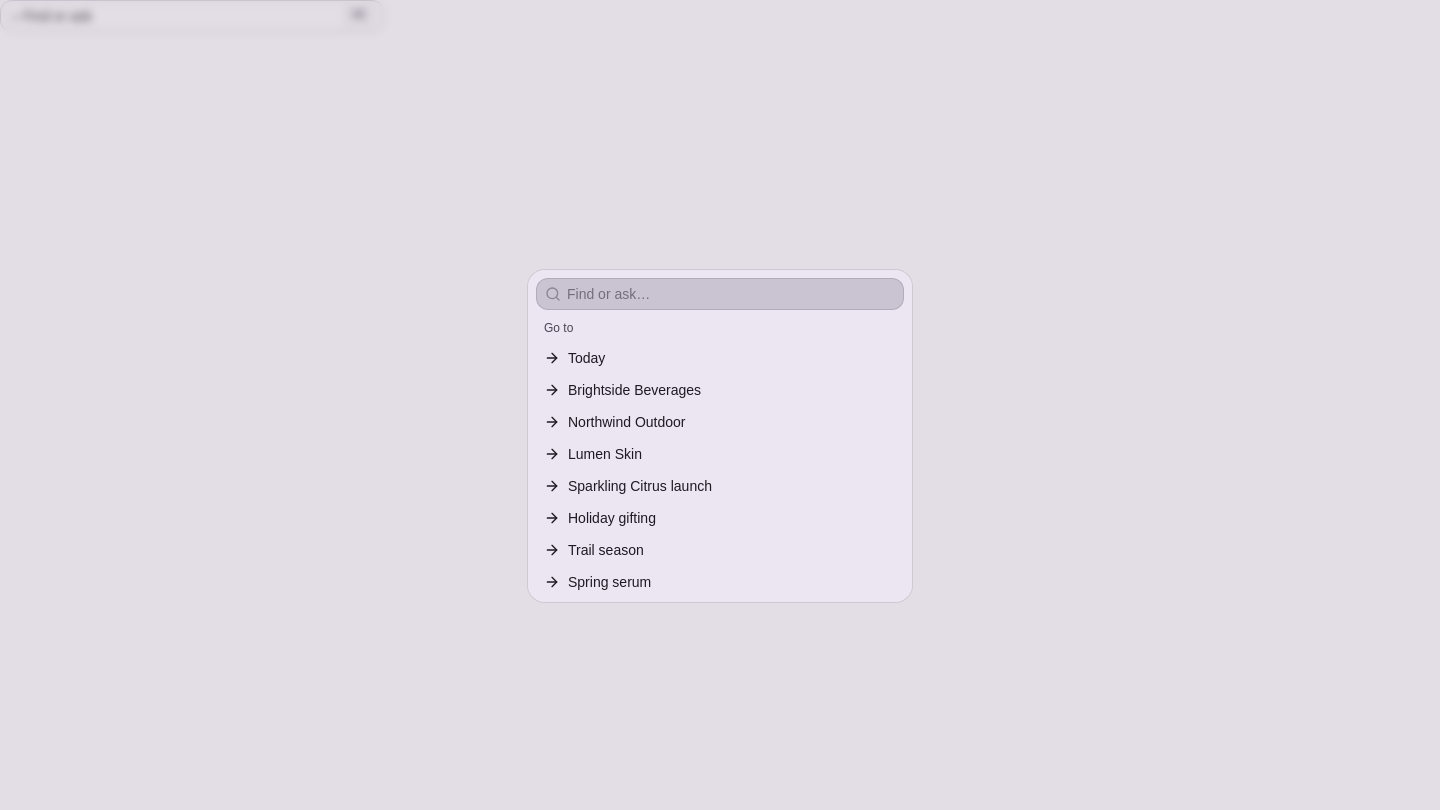
the conversation keeps the subject it started from when the route changes
Later steps or results of the test are not shown.
Type "How does this compare with her last three?" into the dropdown at (732, 294), box [561,284,903,304]
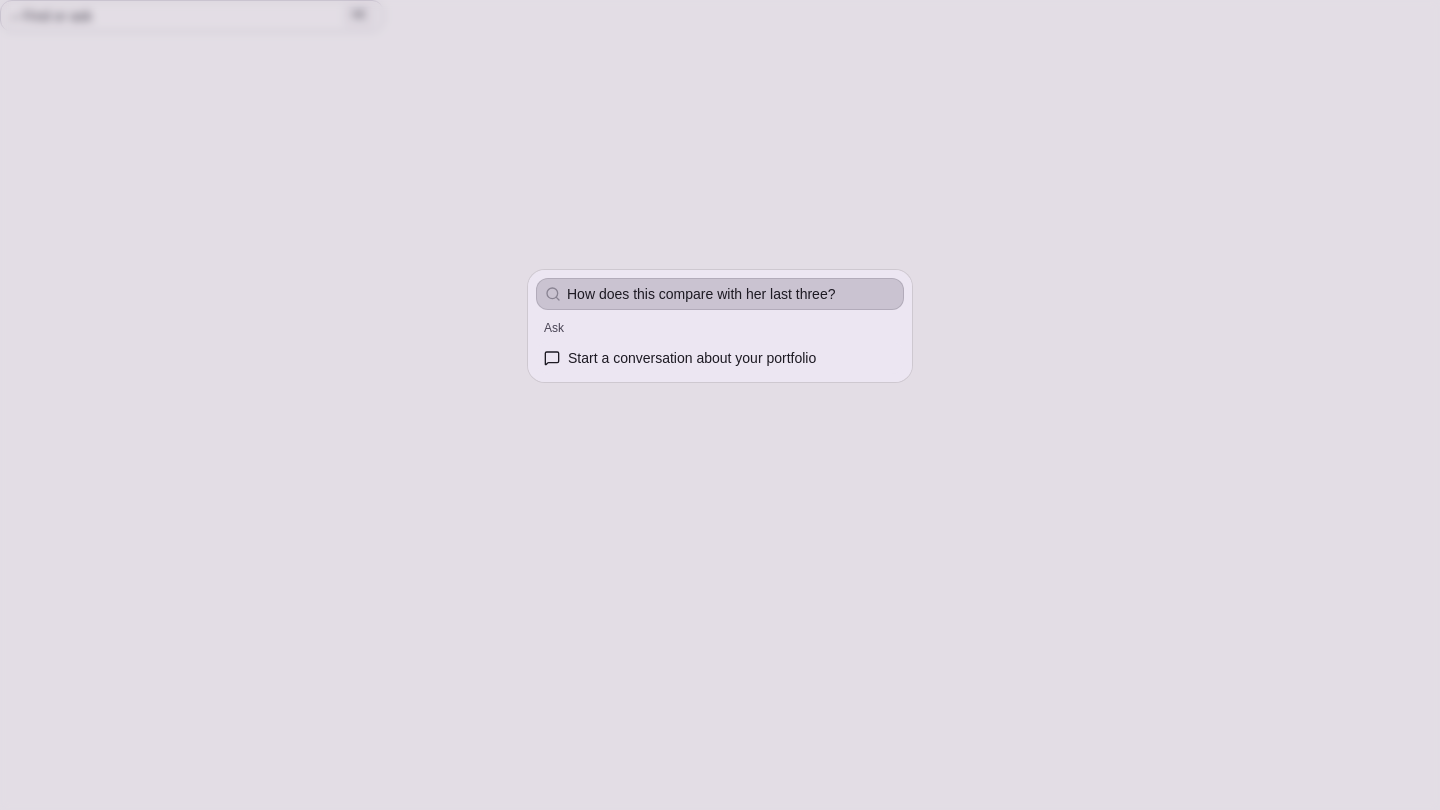
Click the option "Start a conversation about your portfolio" at (720, 358), box [536,342,904,374]
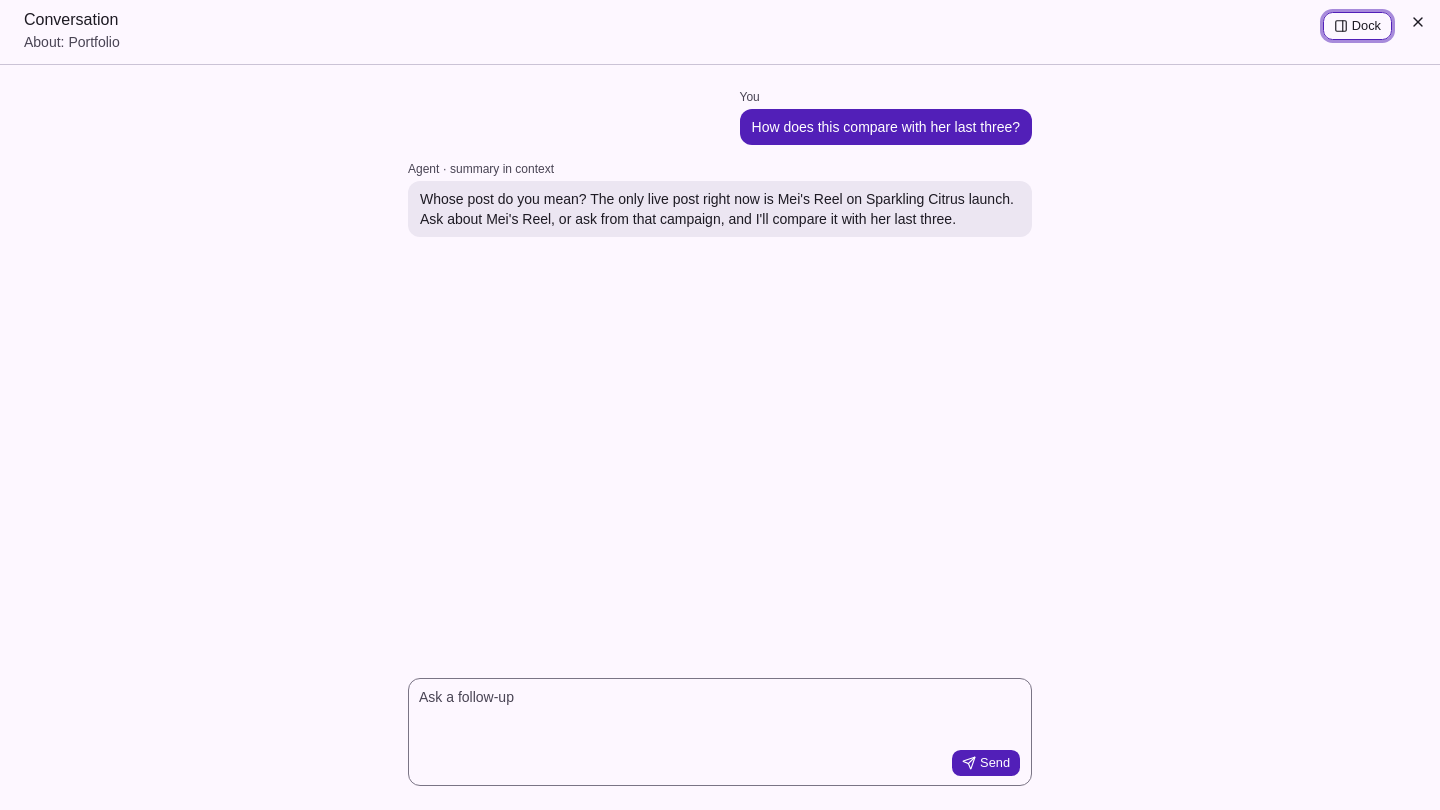
Now the dialog "Conversation" shows "Whose post do you mean", box [420,191,1014,227]
